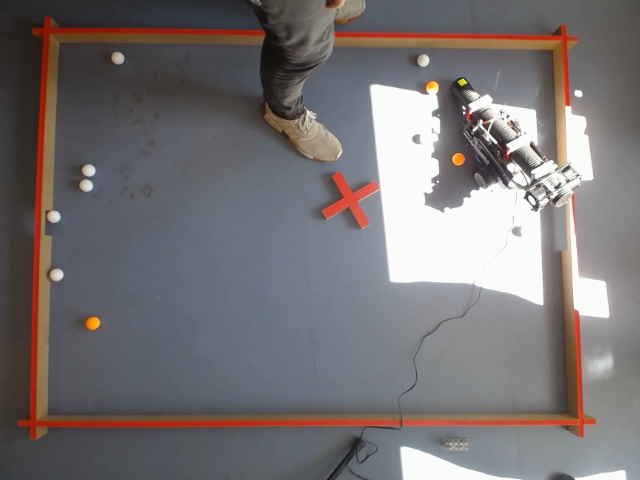orange: (81, 314, 103, 333), (451, 151, 465, 167), (425, 80, 438, 94)
white: (563, 470, 630, 480), (77, 162, 97, 190), (77, 169, 97, 195), (592, 469, 629, 480), (77, 176, 96, 195), (79, 161, 97, 181), (48, 266, 67, 284), (108, 50, 126, 68), (46, 208, 62, 225), (416, 53, 430, 68), (456, 77, 468, 86)
